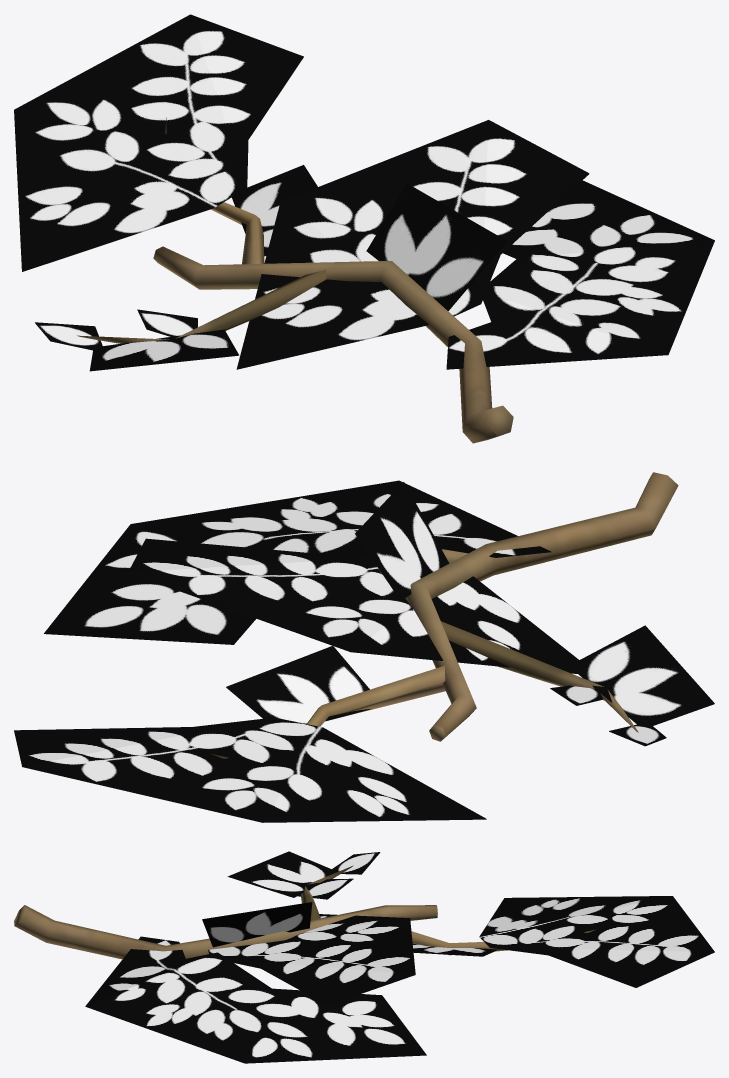
File: P_OakBranch1.obj
3 renders of one model, top to bottom at view 1: azimuth 30°, elevation 25°; view 2: azimuth 150°, elevation 25°; view 3: azimuth 270°, elevation 25°, orthographic. The views are drawn at different scales.
Size of the model in its own units: 2.14 by 0.4128 by 2.92.
